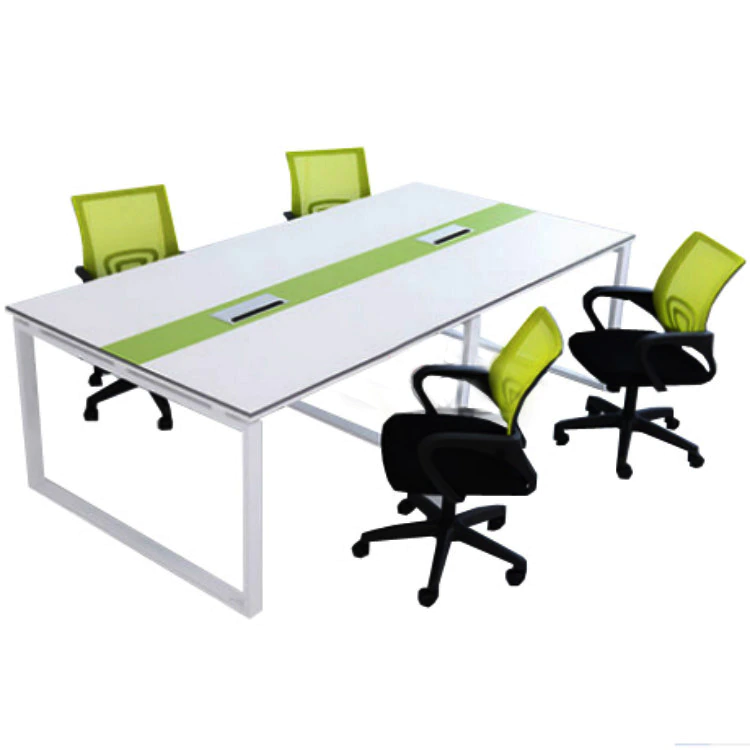conference_table: (7, 182, 636, 617)
